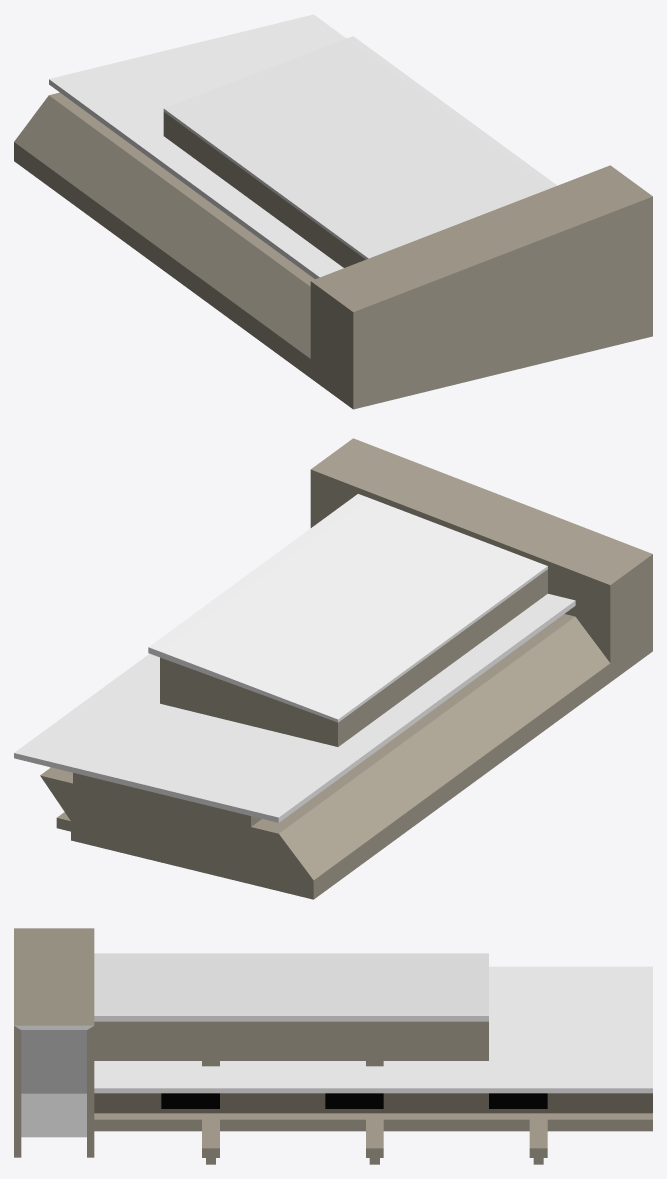
The model's file is APBuildingD.fbx.
3 views of the same model, one above another, from view 1: azimuth 30°, elevation 25°; view 2: azimuth 150°, elevation 25°; view 3: azimuth 270°, elevation 25° (orthographic). The views are drawn at different scales.
Parts seen in each view (by area): view 1: APBuildingD; view 2: APBuildingD; view 3: APBuildingD.
Boxes of the visible parts, box(x1,y1,x2,y2) form: APBuildingD: box(14, 14, 652, 409); APBuildingD: box(14, 438, 652, 899); APBuildingD: box(14, 928, 652, 1164).
Bounding box in the file's own units: 7694 × 3227 × 14178.
Materials: 1 (1 with a texture image).
